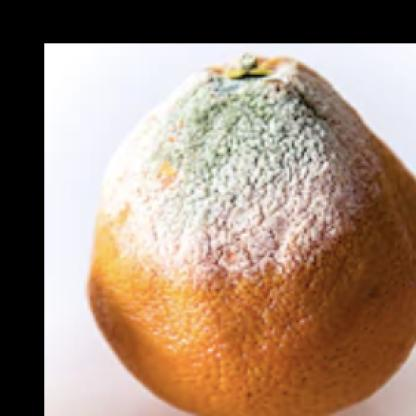rotten: (89, 53, 416, 416)
